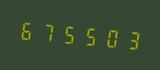five: (78, 19, 97, 51), (58, 18, 77, 49)
seven: (37, 16, 56, 47)
six: (17, 14, 36, 46)
three: (118, 23, 137, 54)
zero: (98, 21, 117, 53)
